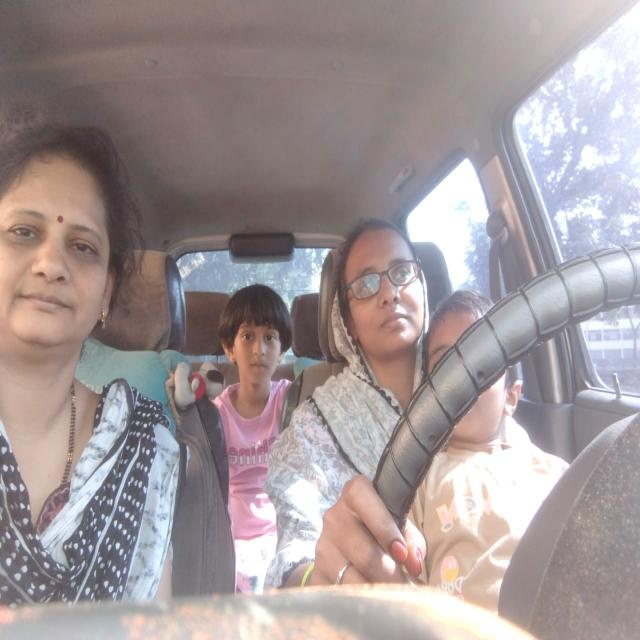child: (418, 290, 528, 448)
person: (1, 120, 140, 390), (328, 212, 430, 362), (216, 277, 296, 403)
